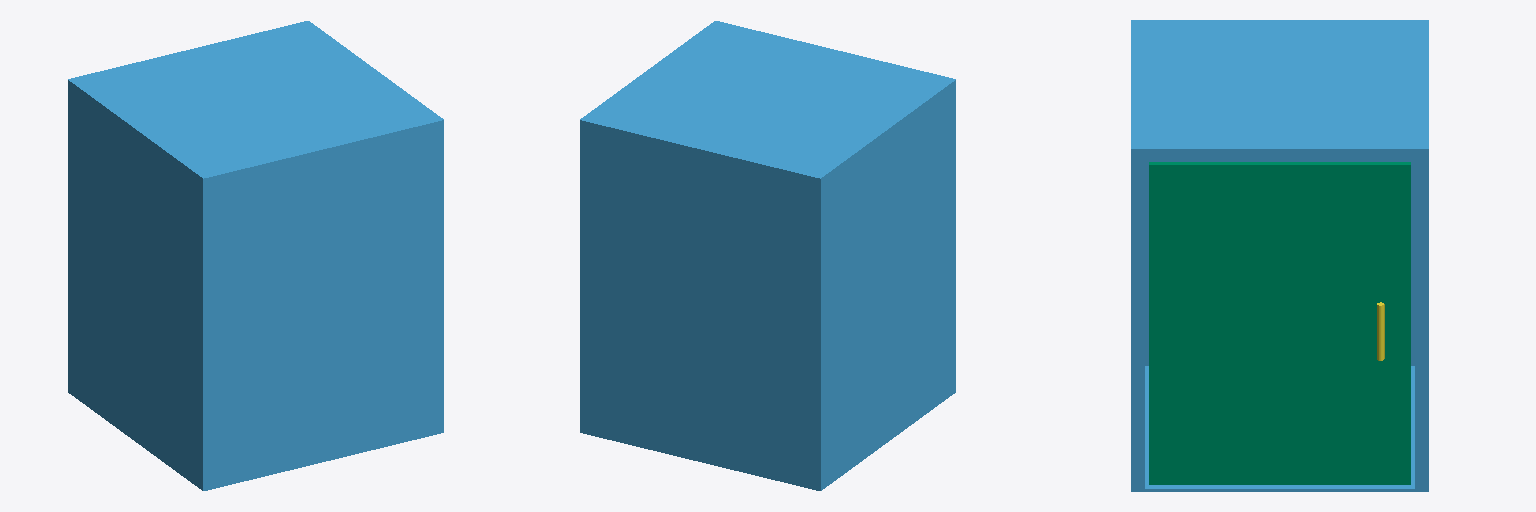
robot.urdf — my_cabinet:
<?xml version="1.0" ?>
<robot name="my_cabinet">
	<link name="world"/>
	<joint name="virtual_joint" type="fixed">
		<parent link="world"/>
		<child link="base_cabinet_link"/>
		<origin xyz="0.0 0.0 0.0" rpy="0.0 0.0 0.0"/>
	</joint>
	<link name="base_cabinet_link">
		<visual>
			<origin xyz="0.0 0.0 -0.238894049929912" rpy="0.0 0.0 0.0"/>
			<geometry>
				<box size="0.4 0.39042122486281394 0.004"/>
			</geometry>
		</visual>
		<collision name="base_cabinet_link_collision_0">
			<origin xyz="0.0 0.0 -0.238894049929912" rpy="0.0 0.0 0.0"/>
			<geometry>
				<box size="0.4 0.39042122486281394 0.004"/>
			</geometry>
		</collision>
		<visual>
			<origin xyz="0.0 0.18621061243140696 0.007" rpy="0.0 0.0 0.0"/>
			<geometry>
				<box size="0.4 0.018 0.495788099859824"/>
			</geometry>
		</visual>
		<collision name="base_cabinet_link_collision_1">
			<origin xyz="0.0 0.18621061243140696 0.007" rpy="0.0 0.0 0.0"/>
			<geometry>
				<box size="0.4 0.018 0.495788099859824"/>
			</geometry>
		</collision>
		<visual>
			<origin xyz="0.0 -0.18621061243140696 0.007" rpy="0.0 0.0 0.0"/>
			<geometry>
				<box size="0.4 0.018 0.495788099859824"/>
			</geometry>
		</visual>
		<collision name="base_cabinet_link_collision_2">
			<origin xyz="0.0 -0.18621061243140696 0.007" rpy="0.0 0.0 0.0"/>
			<geometry>
				<box size="0.4 0.018 0.495788099859824"/>
			</geometry>
		</collision>
		<visual>
			<origin xyz="0.0 0.0 0.245894049929912" rpy="0.0 0.0 0.0"/>
			<geometry>
				<box size="0.4 0.39042122486281394 0.018"/>
			</geometry>
		</visual>
		<collision name="base_cabinet_link_collision_3">
			<origin xyz="0.0 0.0 0.245894049929912" rpy="0.0 0.0 0.0"/>
			<geometry>
				<box size="0.4 0.39042122486281394 0.018"/>
			</geometry>
		</collision>
		<visual>
			<origin xyz="-0.191 0.0 0.007" rpy="0.0 0.0 0.0"/>
			<geometry>
				<box size="0.018 0.39042122486281394 0.495788099859824"/>
			</geometry>
		</visual>
		<collision name="base_cabinet_link_collision_4">
			<origin xyz="-0.191 0.0 0.007" rpy="0.0 0.0 0.0"/>
			<geometry>
				<box size="0.018 0.39042122486281394 0.495788099859824"/>
			</geometry>
		</collision>
		<inertial>
			<mass value="0.200000"/>
			<inertia ixx="0.006637" ixy="0.0" ixz="0.0" iyy="0.006763" iyz="0.0" izz="0.005207"/>
		</inertial>
	</link>
	<link name="door_link">
		<visual>
			<origin xyz="0.0 -0.16221061243140697 0.0"/>
			<geometry>
				<box size="0.018 0.34442122486281396 0.463788099859824"/>
			</geometry>
		</visual>
		<collision name="door_link_collision">
			<origin xyz="0.0 -0.16221061243140697 0.0"/>
			<geometry>
				<box size="0.018 0.34442122486281396 0.463788099859824"/>
			</geometry>
		</collision>
		<inertial>
			<mass value="0.200000"/>
			<inertia ixx="0.005562" ixy="0.0" ixz="0.0" iyy="0.003590" iyz="0.0" izz="0.001982"/>
		</inertial>
	</link>
	<joint name="door_joint" type="revolute">
		<origin xyz="0.191 -0.16221061243140697 0.0" rpy="0.000000 -0.000000 3.141593"/>
		<axis xyz="0 0 1"/>
		<parent link="base_cabinet_link"/>
		<child link="door_link"/>
		<limit effort="50" lower="0" upper="-1.5707963267948966" velocity="10"/>
		<dynamics friction="1.0"/>
	</joint>
	<link name="handle_link">
		<visual>
			<origin xyz="0.0 0.0 0.0" rpy="0.0 0.0 0.0"/>
			<geometry>
				<cylinder length="0.08" radius="0.005"/>
			</geometry>
		</visual>
		<collision name="handle_link_collision_0">
			<origin xyz="0.0 0.0 0.0" rpy="0.0 0.0 0.0"/>
			<geometry>
				<cylinder length="0.08" radius="0.005"/>
			</geometry>
		</collision>
		<visual>
			<origin xyz="-0.01 0.0 0.02" rpy="0.0 1.5707963267948966 0.0"/>
			<geometry>
				<cylinder length="0.02" radius="0.003"/>
			</geometry>
		</visual>
		<collision name="handle_link_collision_1">
			<origin xyz="-0.01 0.0 0.02" rpy="0.0 1.5707963267948966 0.0"/>
			<geometry>
				<cylinder length="0.01" radius="0.003"/>
			</geometry>
		</collision>
		<visual>
			<origin xyz="-0.01 0.0 -0.02" rpy="0.0 1.5707963267948966 0.0"/>
			<geometry>
				<cylinder length="0.02" radius="0.003"/>
			</geometry>
		</visual>
		<collision name="handle_link_collision_2">
			<origin xyz="-0.01 0.0 -0.02" rpy="0.0 1.5707963267948966 0.0"/>
			<geometry>
				<cylinder length="0.02" radius="0.003"/>
			</geometry>
		</collision>
		<inertial>
			<mass value="0.050000"/>
			<inertia ixx="0.000027" ixy="0.0" ixz="0.0" iyy="0.000029" iyz="0.0" izz="0.000003"/>
		</inertial>
	</link>
	<joint name="handle_joint" type="fixed">
		<origin xyz="-0.028999999999999998 -0.29442122486281397 0.0" rpy="0.000000 -0.000000 3.141593"/>
		<parent link="door_link"/>
		<child link="handle_link"/>
	</joint>
	<gazebo reference="base_cabinet_link">
		<sensor name="main_sensor" type="contact">
			<selfCollide>true</selfCollide>
			<alwaysOn>true</alwaysOn>
			<updateRate>5.0</updateRate>
			<material>Gazebo/Red</material>
			<contact>
				<collision>base_cabinet_link_collision_0_collision</collision>
				<collision>base_cabinet_link_collision_1_collision</collision>
				<collision>base_cabinet_link_collision_2_collision</collision>
				<collision>base_cabinet_link_collision_3_collision</collision>
				<collision>base_cabinet_link_collision_4_collision</collision>
			</contact>
			<plugin name="gazebo_ros_bumper_controller" filename="libgazebo_ros_bumper.so">
				<bumperTopicName>/contact</bumperTopicName>
				<frameName>world</frameName>
			</plugin>
		</sensor>
	</gazebo>
	<gazebo reference="door_link">
		<sensor name="main_sensor" type="contact">
			<selfCollide>true</selfCollide>
			<alwaysOn>true</alwaysOn>
			<updateRate>5.0</updateRate>
			<material>Gazebo/Red</material>
			<contact>
				<collision>door_link_collision_collision</collision>
			</contact>
			<plugin name="gazebo_ros_bumper_controller" filename="libgazebo_ros_bumper.so">
				<bumperTopicName>/contact_door</bumperTopicName>
				<frameName>contact_door</frameName>
			</plugin>
		</sensor>
	</gazebo>
</robot>

--- What the picture shows (computed from the rendered views, not written in the file) ---
The picture shows the robot from 3 angles, left to right: view 1: azimuth 30°, elevation 25°; view 2: azimuth 150°, elevation 25°; view 3: azimuth 270°, elevation 25°; orthographic projection.
Model my_cabinet with 4 links and 3 joints (1 revolute, 2 fixed), rooted at world, posed all joints at 0.
Links seen in each view (by area): view 1: base_cabinet_link; view 2: base_cabinet_link; view 3: door_link, base_cabinet_link.
Boxes of the visible links, box(x1,y1,x2,y2) form: base_cabinet_link: box(68, 21, 443, 490); base_cabinet_link: box(580, 21, 955, 490); door_link: box(1149, 162, 1410, 484); base_cabinet_link: box(1131, 20, 1428, 491).
Size in the robot's own frame: 0.425 by 0.3904 by 0.4958 metres.
Geometry: primitives only (box / cylinder / sphere), no mesh files.
